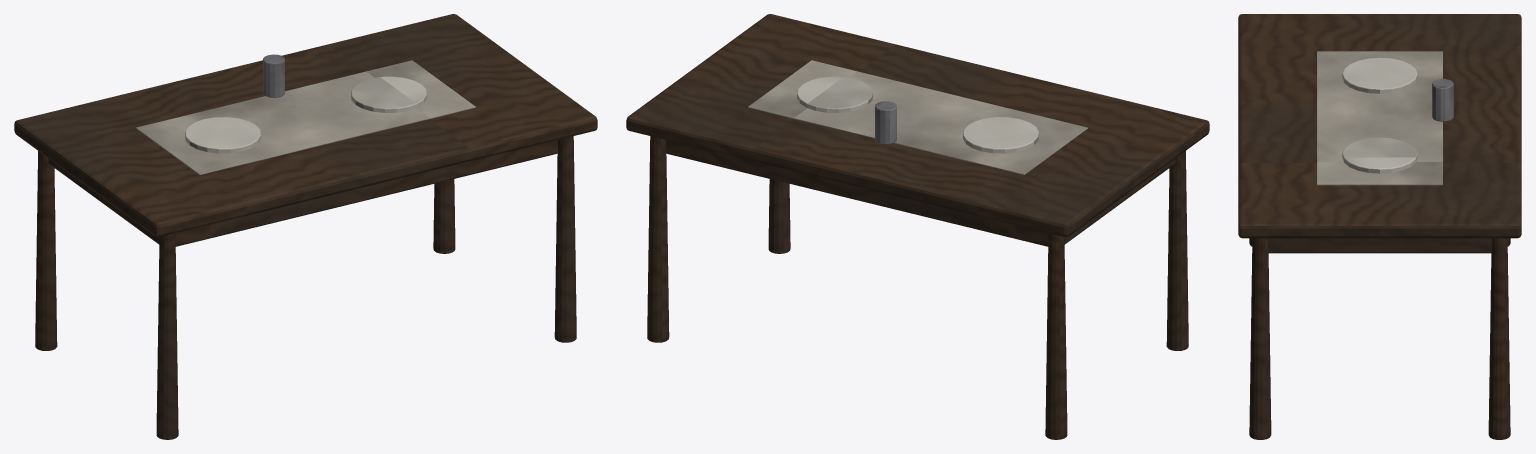
File: L10_dining_table.glb
3 views of the same model, side by side, from view 1: azimuth 30°, elevation 25°; view 2: azimuth 150°, elevation 25°; view 3: azimuth 270°, elevation 25° (orthographic).
Visible parts, largest first — view 1: L10_dining_table; view 2: L10_dining_table; view 3: L10_dining_table.
Boxes of the visible parts, <box> form: L10_dining_table: <box>14,14,597,439</box>; L10_dining_table: <box>626,14,1209,439</box>; L10_dining_table: <box>1238,14,1521,439</box>.
Bounding box in the file's own units: 1.6 × 0.9 × 0.9.
Materials: 4 (4 with a texture image).
